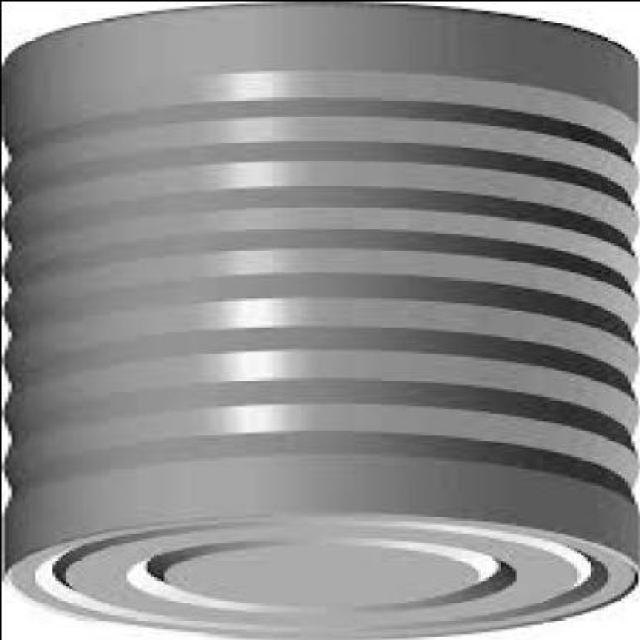METAL: (1, 0, 640, 638)
